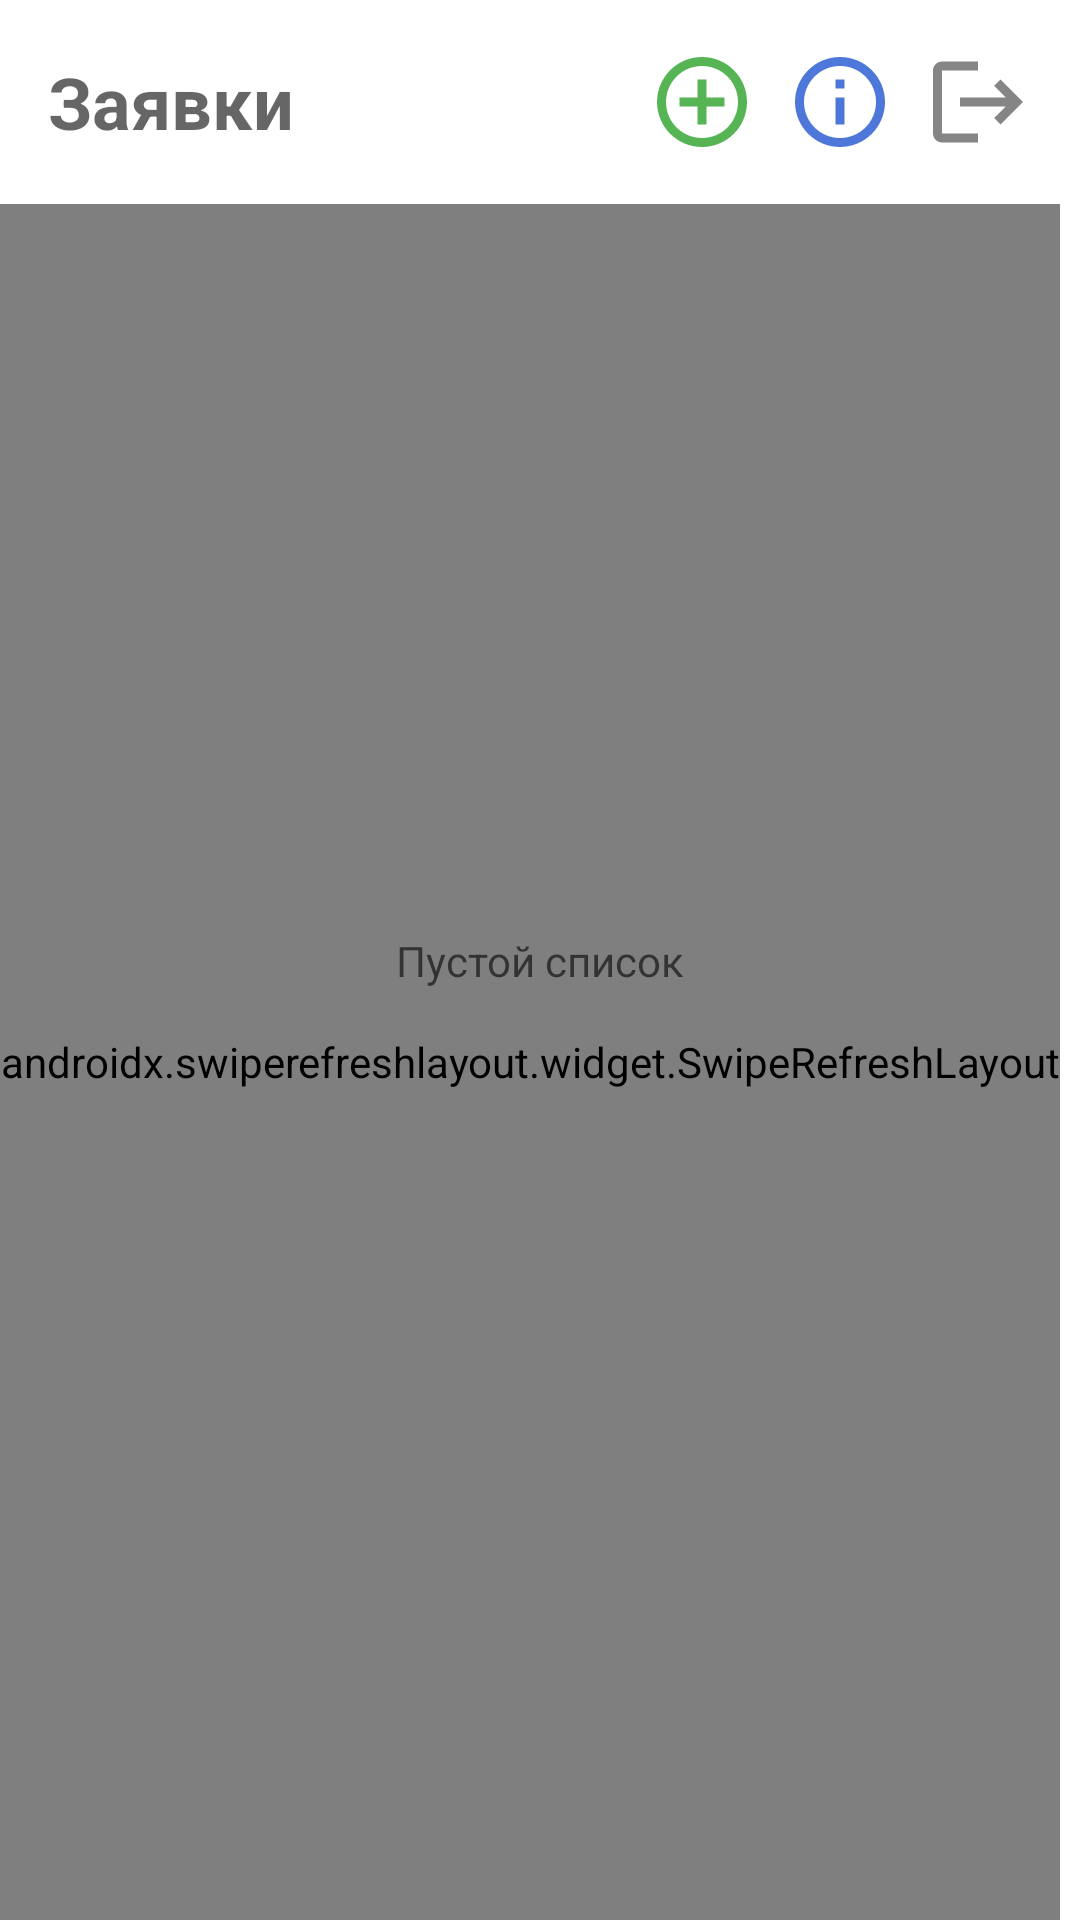

Where to tap for icons on this 1080w x 1920h app screen, as point (x, y):
add circle: point (702, 102)
info: point (840, 102)
